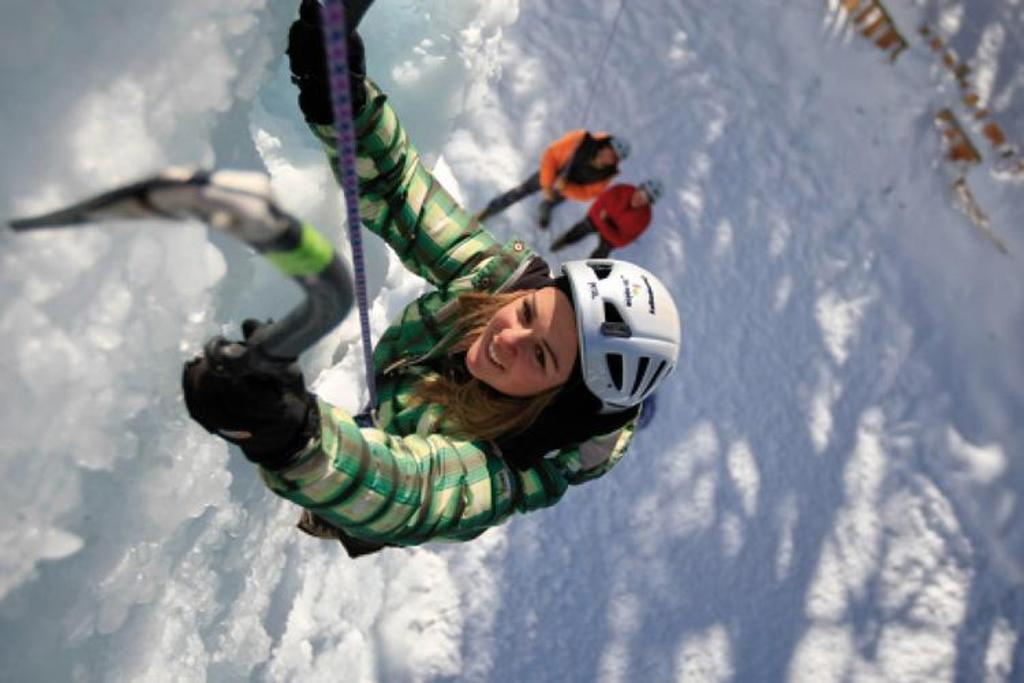face: (466, 287, 584, 396), (593, 142, 618, 166), (631, 188, 652, 206)
